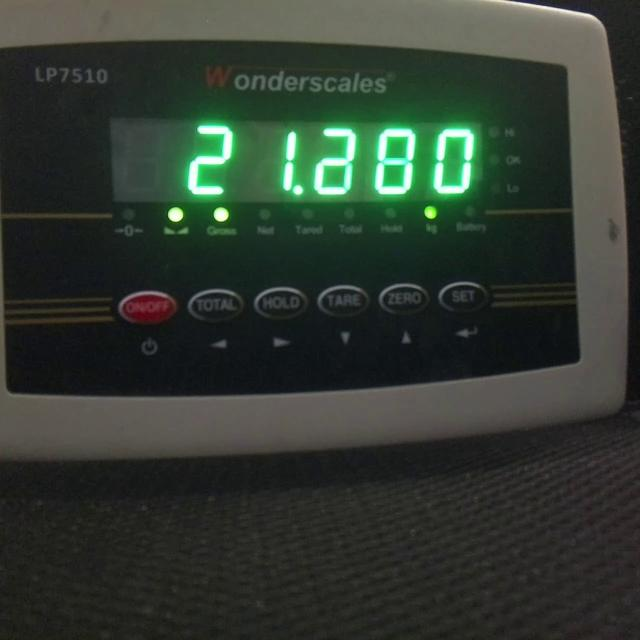.: (293, 185, 303, 195)
0: (433, 127, 474, 193)
1: (281, 126, 297, 197)
2: (188, 124, 233, 195)
6: (312, 127, 356, 195)
8: (374, 127, 416, 194)
